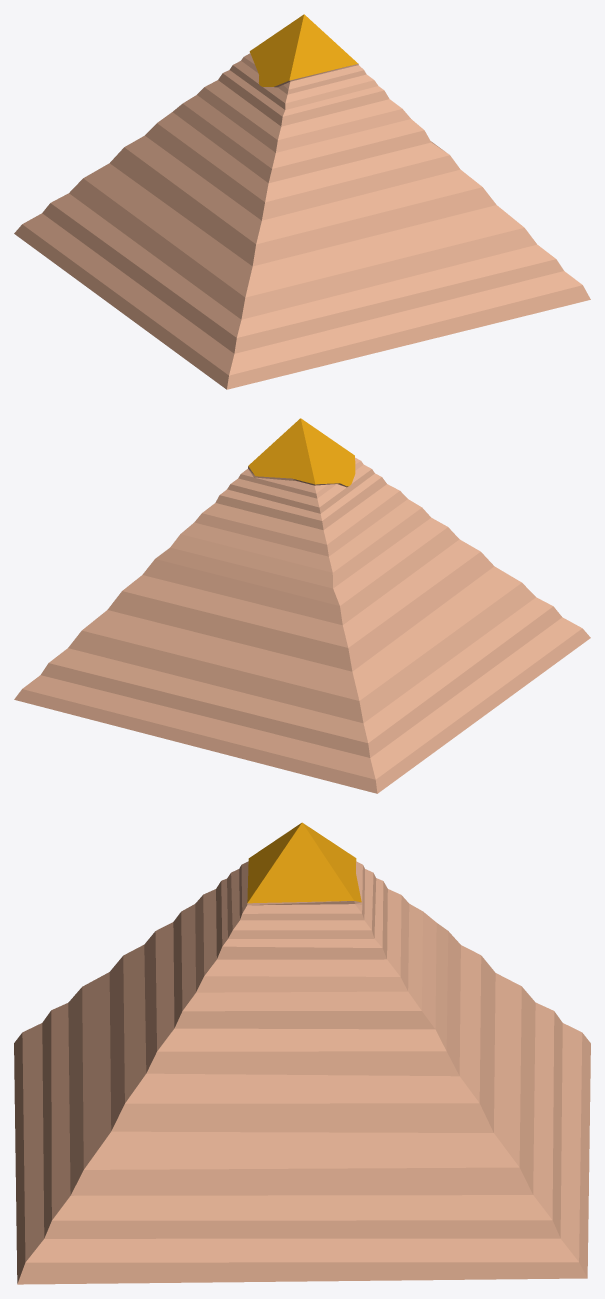
Rendered from pyr_keops.fbx.
3 renders of one model, top to bottom at view 1: azimuth 30°, elevation 25°; view 2: azimuth 150°, elevation 25°; view 3: azimuth 270°, elevation 25°, orthographic. The views are drawn at different scales.
Parts seen in each view (by area): view 1: Cube.001; view 2: Cube.001; view 3: Cube.001.
Part boxes in pixels (left/top/right/bottom): Cube.001: left=14, top=14, right=590, bottom=389; Cube.001: left=14, top=418, right=590, bottom=793; Cube.001: left=14, top=822, right=590, bottom=1284.
Size of the model in its own units: 166 by 110 by 167.
